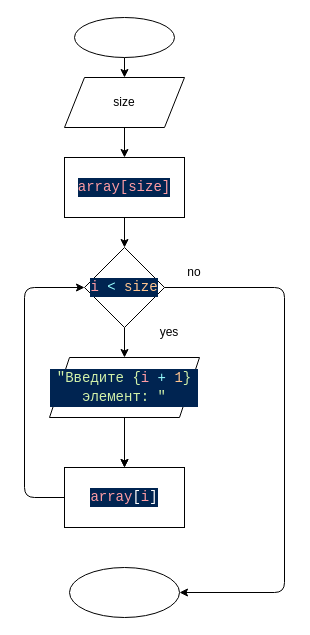
Some shapes in this 310 by 635 pixel diagram are drawn without their labels. Each missing label, with the centre of its shape:
finish: the point at 124,592
start: the point at 124,37
